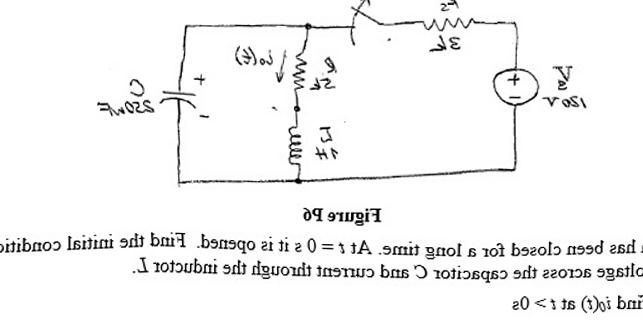Battery: (479, 50, 543, 114)
